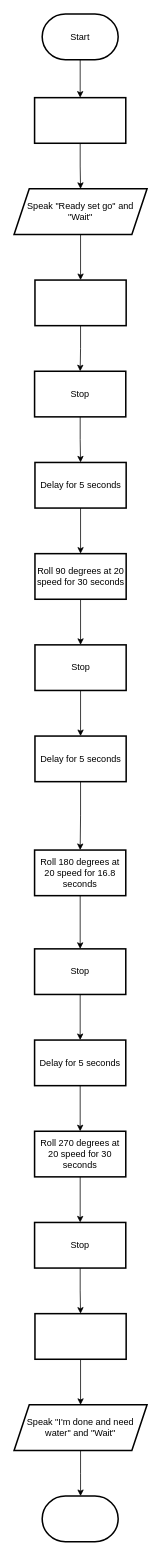
This 160x1555 diagram has some shape labels left out. Each missing label, with the centre of its shape:
"End" goes at (x=80, y=1518).
"Roll 0 degrees at 20 speed for 16.8 seconds" goes at (x=80, y=302).
"Set color to green" goes at (x=79, y=120).
"Set color to red" goes at (x=80, y=1336).
